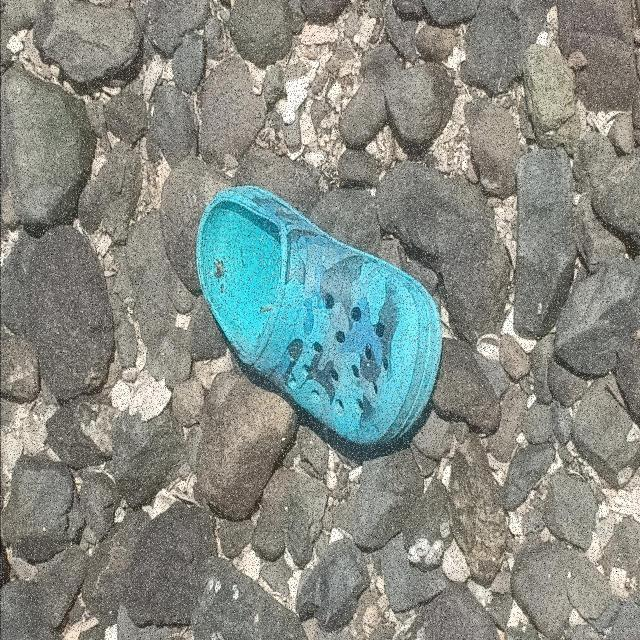rubber_waste: (195, 186, 444, 450)
